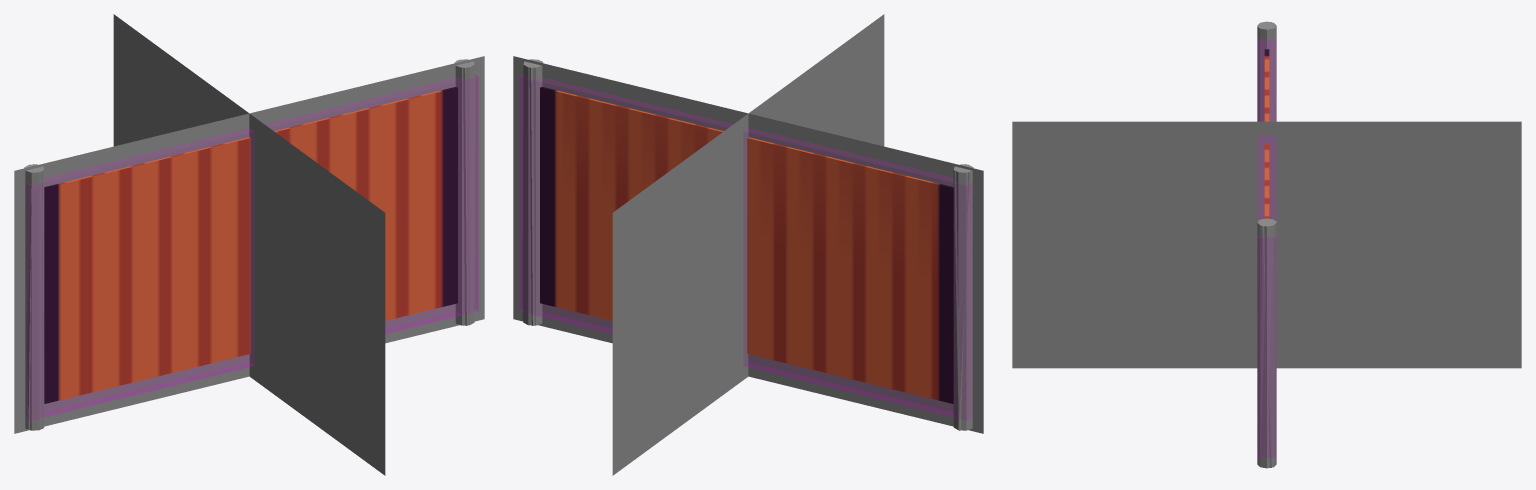
File: stake_ribbon_orange_2m.dae
The picture shows the model from 3 angles, left to right: view 1: azimuth 30°, elevation 25°; view 2: azimuth 150°, elevation 25°; view 3: azimuth 270°, elevation 25°; orthographic projection. The views are drawn at different scales.
Parts seen in each view (by area): view 1: stake_ribbon_orange_2m_a800, Colmesh_panel-1, stake_ribbon_orange_2m_a50, stake_ribbon_orange_2m_a200; view 2: stake_ribbon_orange_2m_a800, Colmesh_panel-1, stake_ribbon_orange_2m_a50, stake_ribbon_orange_2m_a200; view 3: stake_ribbon_orange_2m_a50, stake_ribbon_orange_2m_a800, Colmesh_panel-1, stake_ribbon_orange_2m_a200.
Boxes of the visible parts, x1=… form: stake_ribbon_orange_2m_a800: x1=24, y1=59, x2=474, y2=430; Colmesh_panel-1: x1=26, y1=75, x2=478, y2=420; stake_ribbon_orange_2m_a50: x1=14, y1=14, x2=484, y2=475; stake_ribbon_orange_2m_a200: x1=27, y1=60, x2=475, y2=430; stake_ribbon_orange_2m_a800: x1=523, y1=59, x2=973, y2=430; Colmesh_panel-1: x1=519, y1=74, x2=971, y2=420; stake_ribbon_orange_2m_a50: x1=513, y1=14, x2=983, y2=475; stake_ribbon_orange_2m_a200: x1=522, y1=60, x2=970, y2=430; stake_ribbon_orange_2m_a50: x1=1012, y1=121, x2=1521, y2=368; stake_ribbon_orange_2m_a800: x1=1257, y1=21, x2=1276, y2=468; Colmesh_panel-1: x1=1257, y1=39, x2=1276, y2=456; stake_ribbon_orange_2m_a200: x1=1257, y1=22, x2=1276, y2=467.
Size of the model in its own units: 2.1 by 2.1 by 1.12.
Materials: 3 (1 with a texture image).
